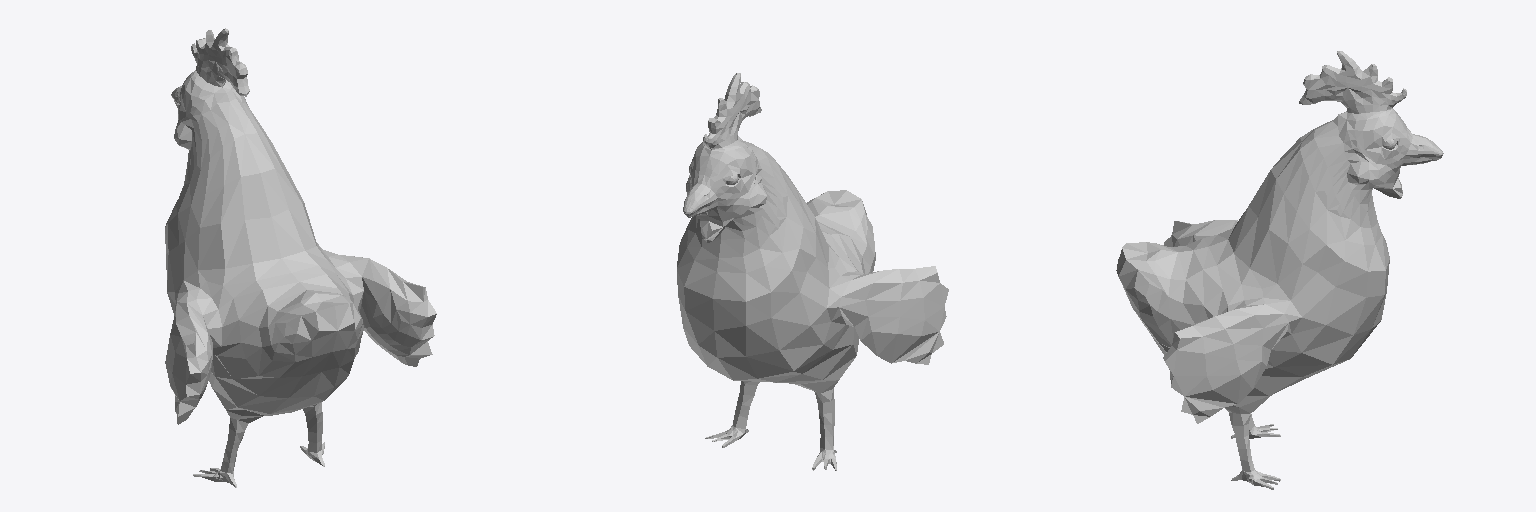
File: chicken.obj
3 renders of one model, left to right at view 1: azimuth 30°, elevation 25°; view 2: azimuth 150°, elevation 25°; view 3: azimuth 270°, elevation 25°, orthographic.
Parts seen in each view (by area): view 1: chickenF; view 2: chickenF; view 3: chickenF.
Boxes of the visible parts, box(x1,y1,x2,y2) form: chickenF: box(165, 28, 436, 487); chickenF: box(677, 73, 948, 470); chickenF: box(1116, 51, 1443, 489).
Bounding box in the file's own units: 4.87 × 7.51 × 5.43.